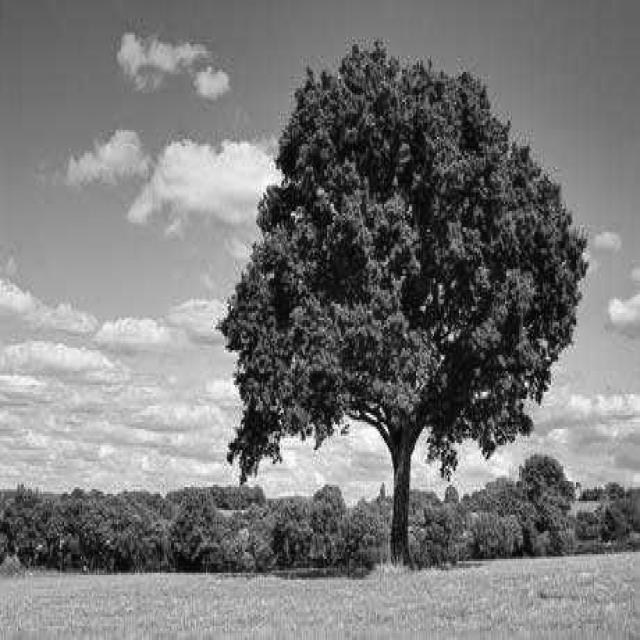Tree: (222, 46, 586, 561)
